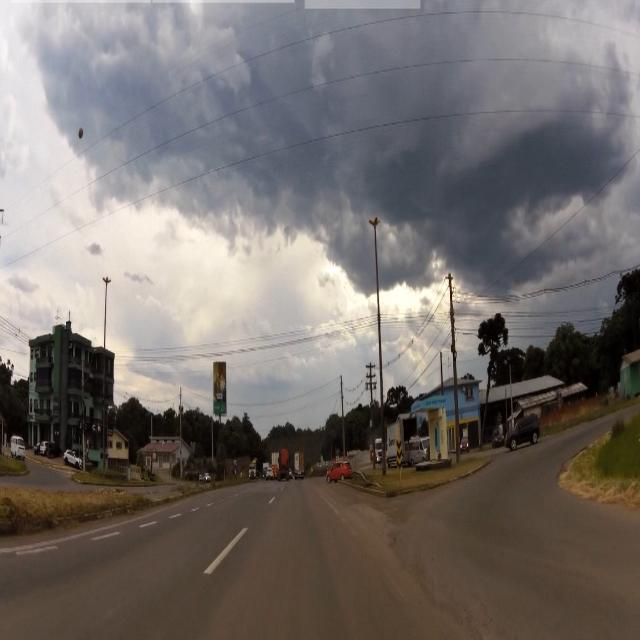MP: (396, 438, 403, 470)
